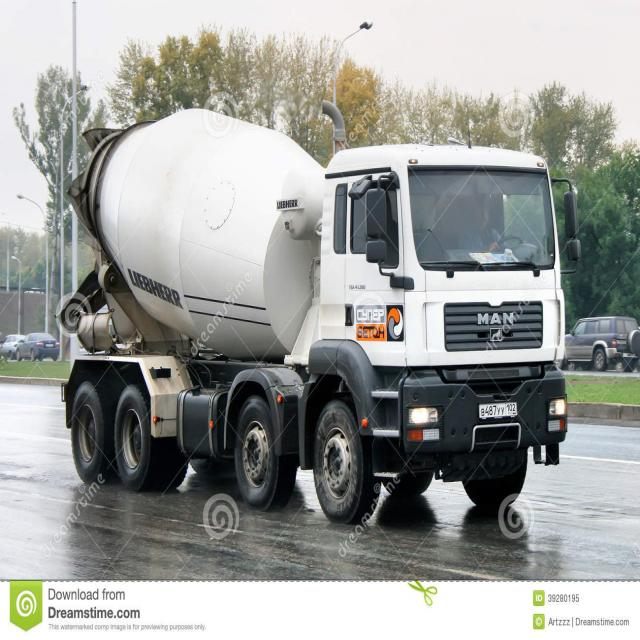Mixer Truck: (61, 109, 567, 525)
